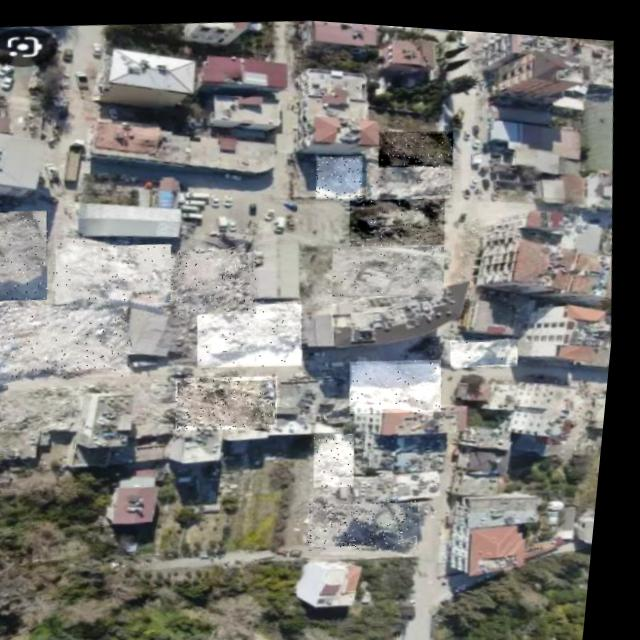Rubble: (0, 286, 141, 387), (51, 228, 182, 315), (197, 293, 312, 369), (313, 486, 432, 552), (332, 234, 451, 297), (178, 366, 288, 432), (173, 240, 265, 316), (351, 347, 451, 412), (348, 183, 451, 246), (0, 206, 57, 305), (365, 150, 455, 198), (377, 120, 457, 165), (317, 425, 365, 484), (453, 327, 525, 364), (315, 148, 367, 197)
